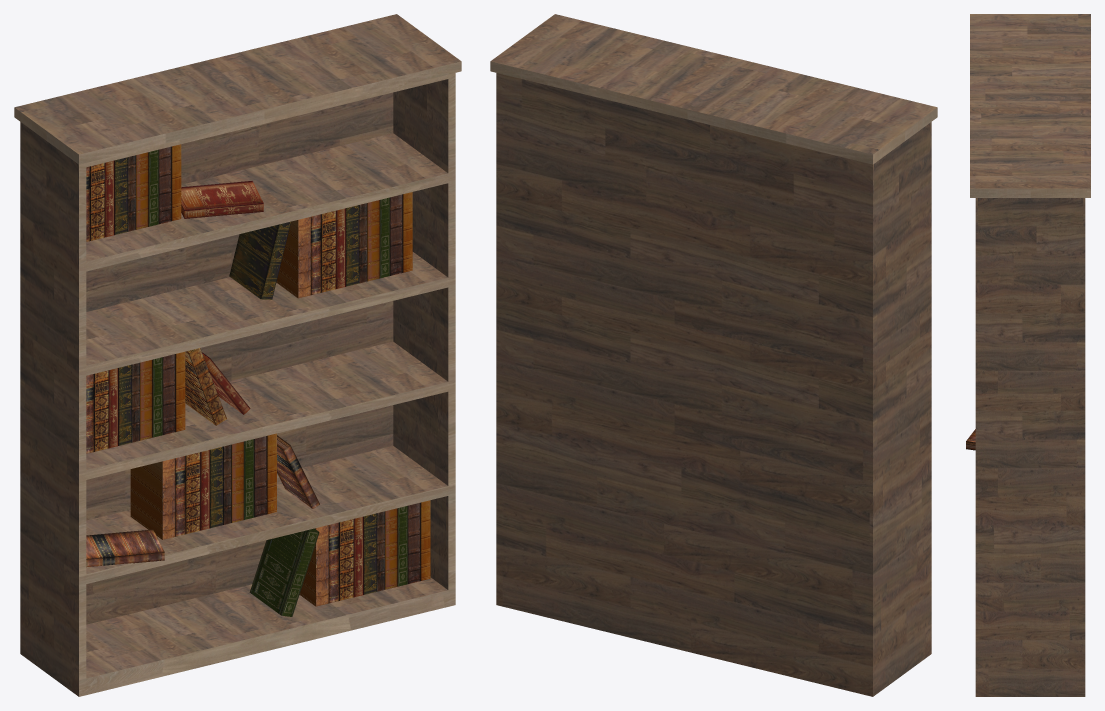
Rendered from bookshelf.glb.
3 renders of one model, left to right at view 1: azimuth 30°, elevation 25°; view 2: azimuth 150°, elevation 25°; view 3: azimuth 270°, elevation 25°, orthographic. The views are drawn at different scales.
Visible parts, largest first — view 1: Base, BookCollection05, BookCollection03, BookCollection02, BookCollection01, BookCollection04, Book004, Book007, Book003, Book002, Book006, Book001 (+1 smaller); view 2: Base; view 3: Base.
Boxes of the visible parts, <box> form: Base: <box>14,14,461,696</box>; BookCollection05: <box>130,433,276,539</box>; BookCollection03: <box>276,192,412,298</box>; BookCollection02: <box>299,500,430,606</box>; BookCollection01: <box>86,351,185,453</box>; BookCollection04: <box>86,144,181,241</box>; Book004: <box>249,528,319,616</box>; Book007: <box>229,221,290,299</box>; Book003: <box>181,181,263,218</box>; Book002: <box>86,529,164,567</box>; Book006: <box>185,348,226,425</box>; Book001: <box>277,435,319,508</box>; Base: <box>490,14,937,696</box>; Base: <box>970,14,1090,696</box>.
Size of the model in its own units: 30.74 by 41.87 by 9.29.
3 materials, 3 textured.
